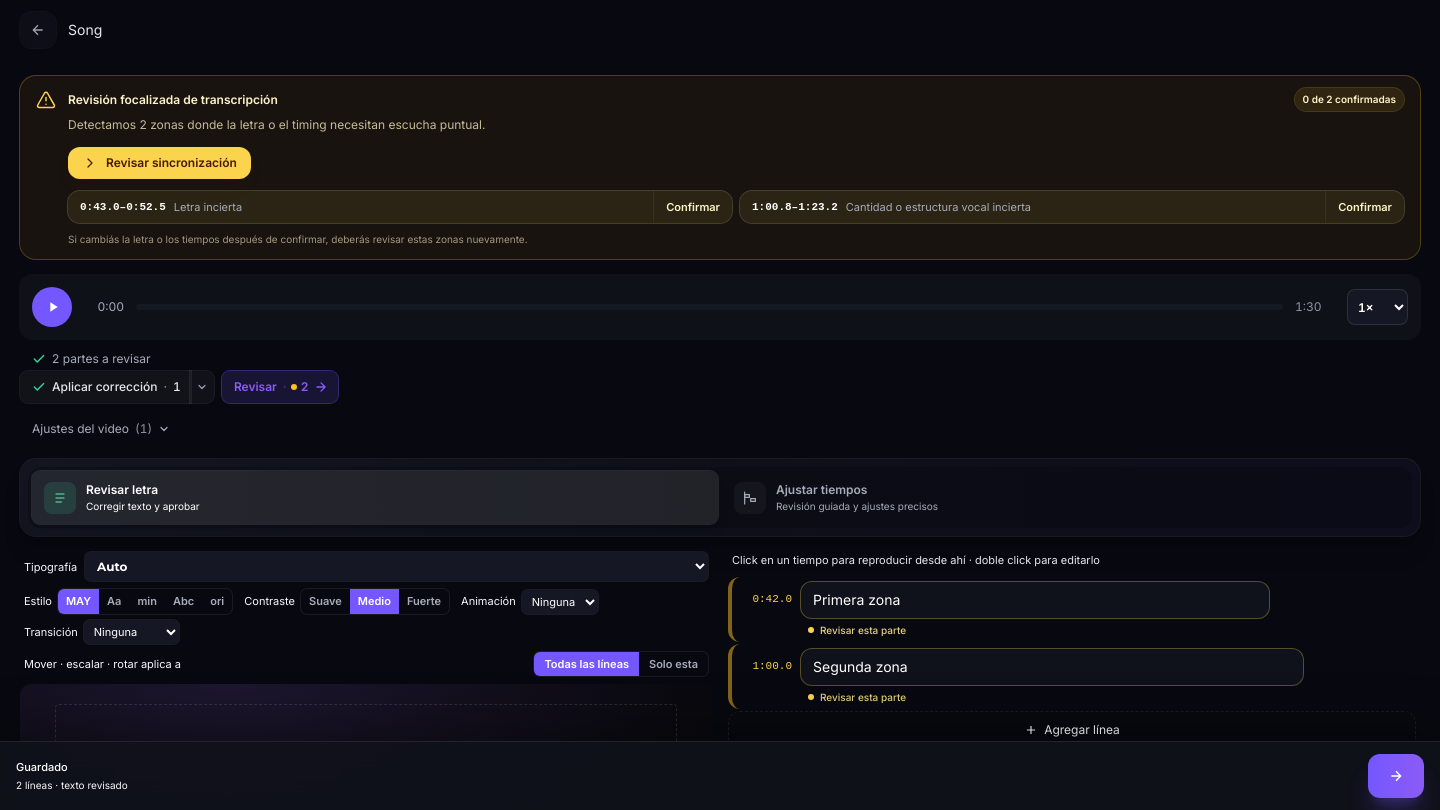
LyricsEditor — revisión focalizada transcription quality v5 › detiene el loop antes de confirmar y cambiar de ventana
The width and height of the screenshot is (1440, 810).
Click the button "Revisar sincronización" at {"x": 159, "y": 162}, box [68,146,251,178]
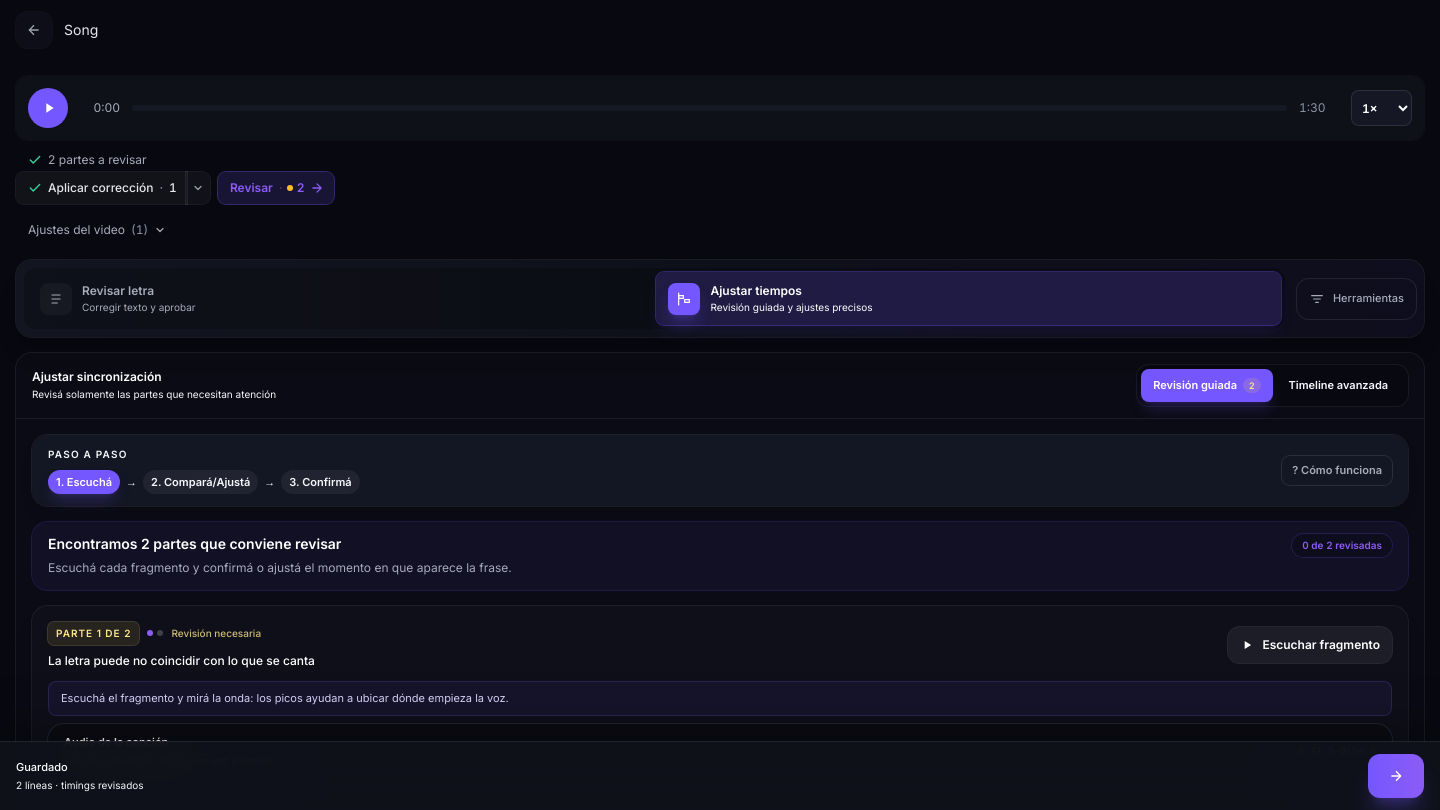
Click the button with aria-label "Reproducir este tramo en loop" at {"x": 1310, "y": 645}, box [1228,627,1392,663]
(page scrolled)
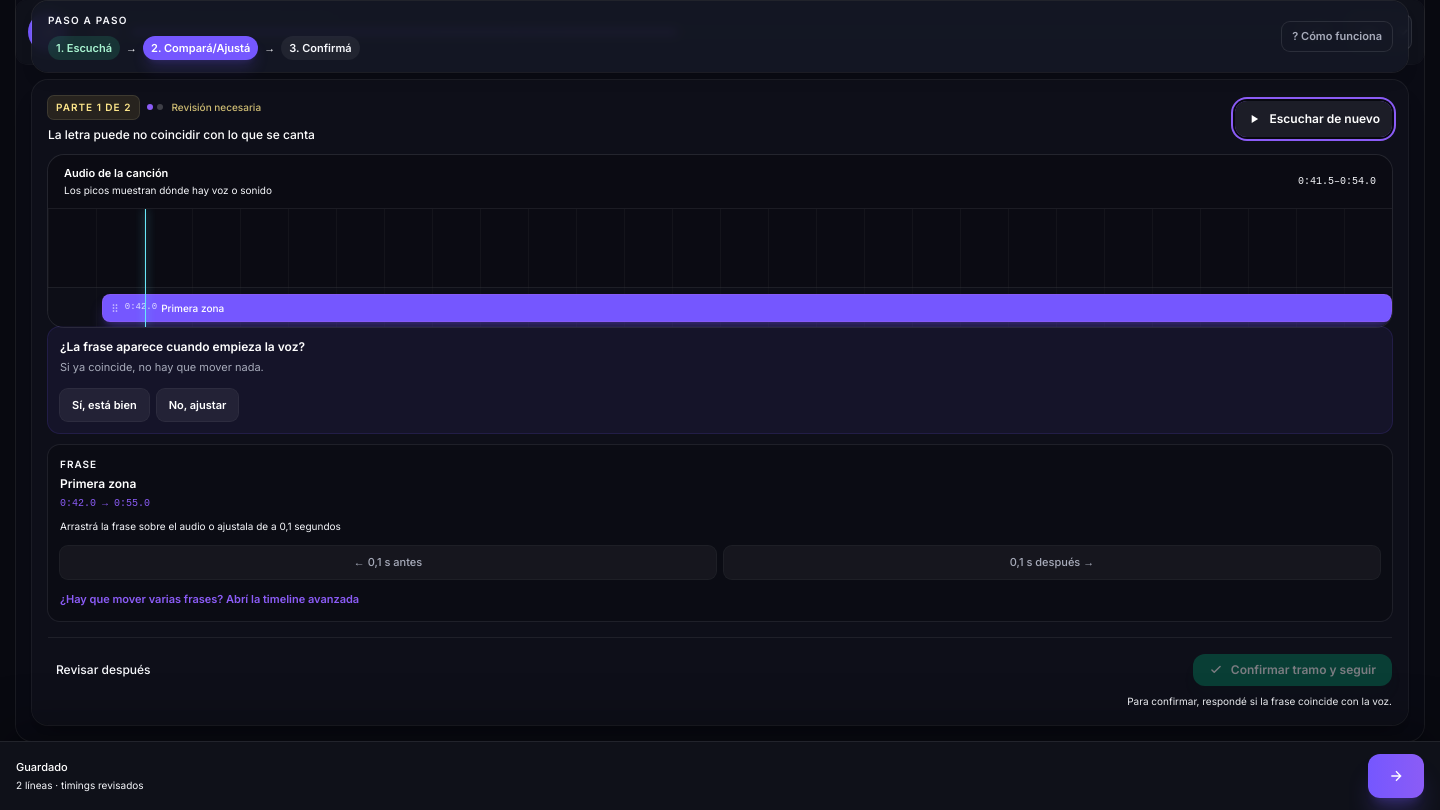
Click the button "Sí, está bien" at {"x": 104, "y": 405}, box [60,389,149,421]
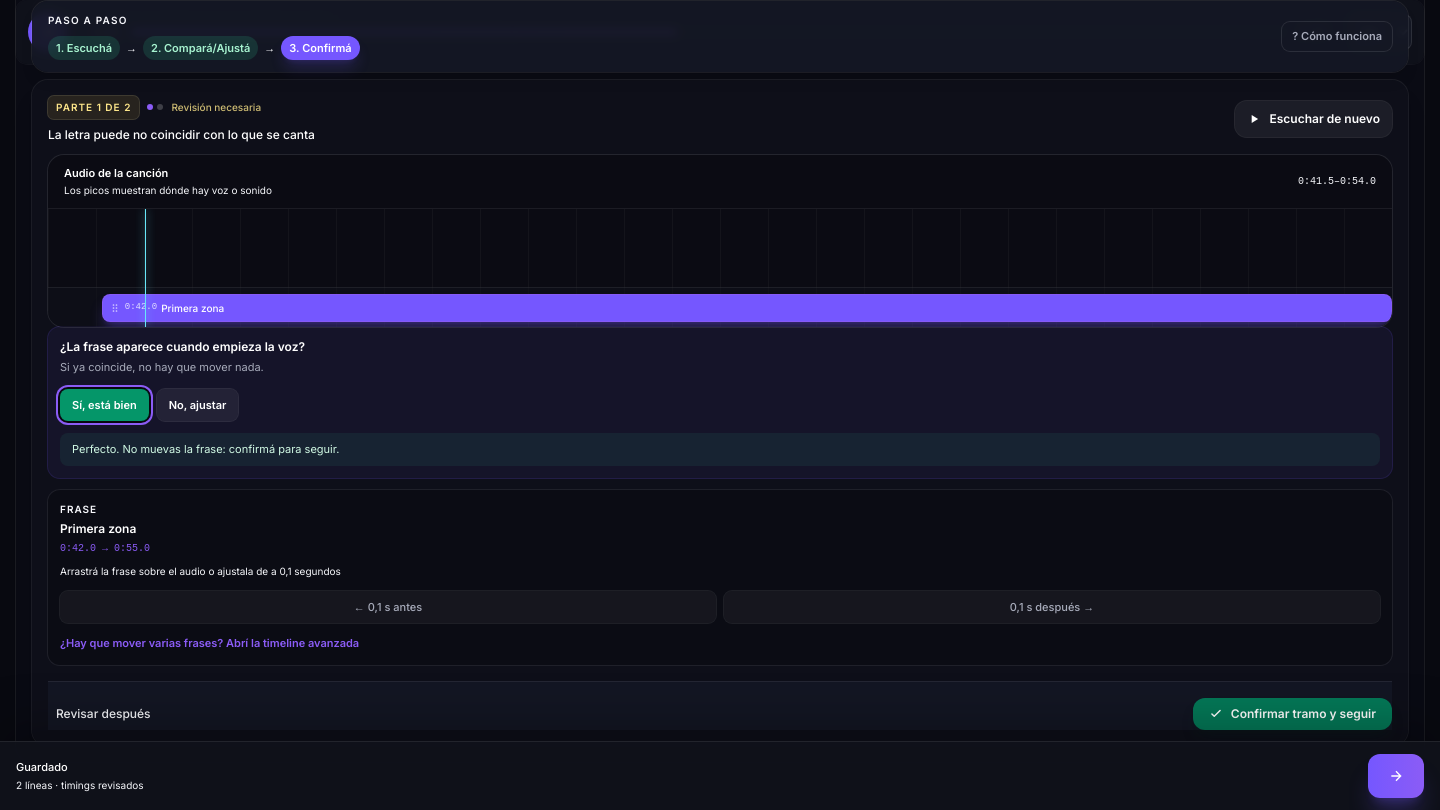
Click the button "Confirmar tramo y seguir" at {"x": 1292, "y": 714}, box [1193,698,1392,730]
(page scrolled)
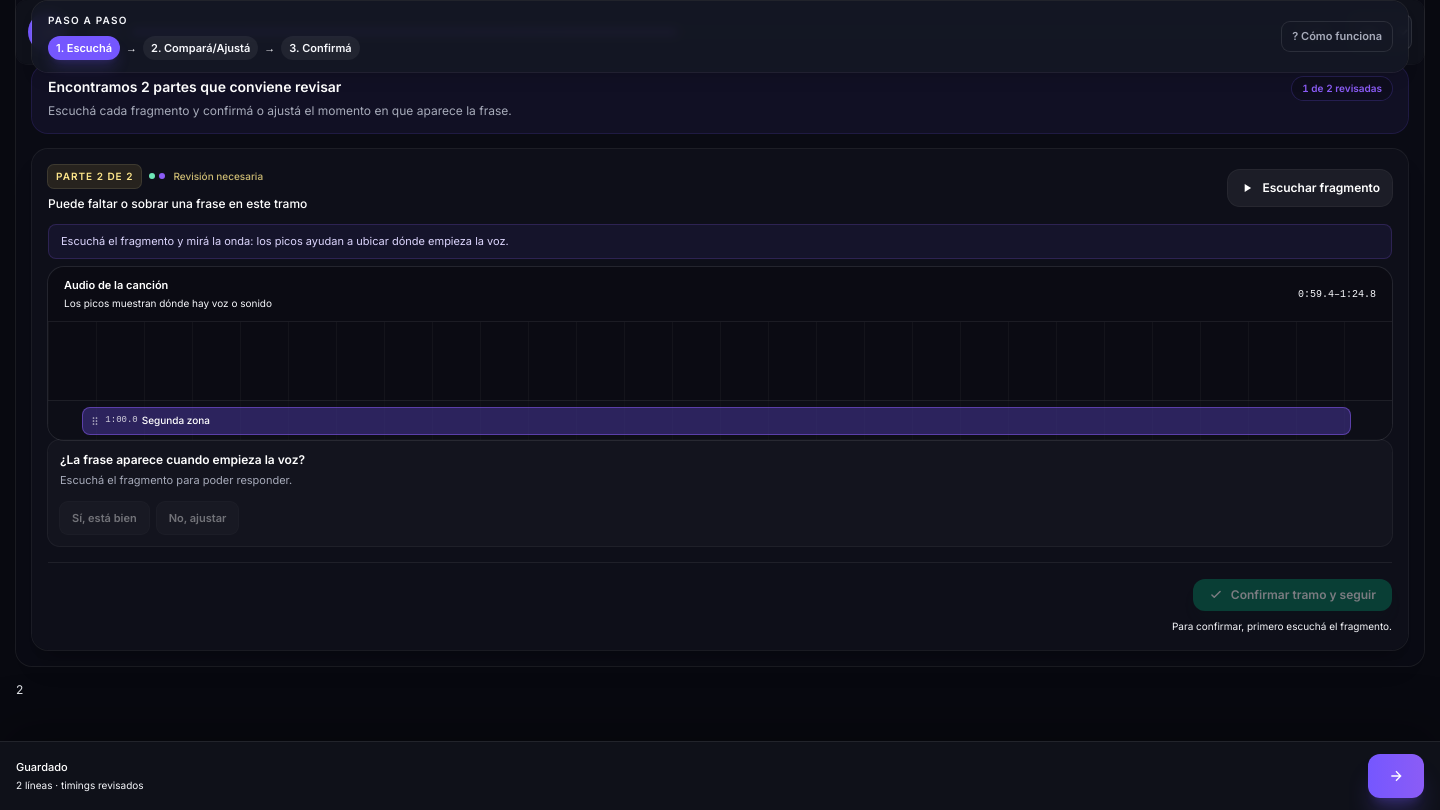
Expected: the text "Parte 2 de 2" is shown, [48,164,141,188]
